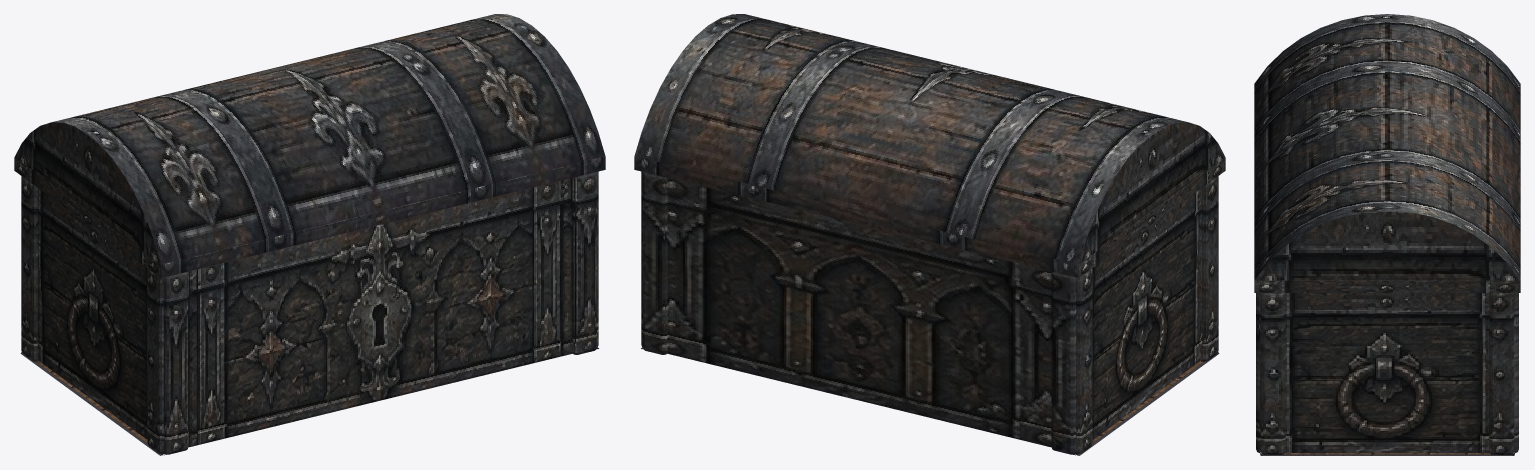
File: chest_domed_gothic.glb
The picture shows the model from 3 angles, left to right: view 1: azimuth 30°, elevation 25°; view 2: azimuth 150°, elevation 25°; view 3: azimuth 270°, elevation 25°; orthographic projection. The views are drawn at different scales.
Visible parts, largest first — view 1: body, lid; view 2: body, lid; view 3: lid, body.
Boxes of the visible parts, box(x1,y1,x2,y2) form: body: box(20, 171, 598, 455); lid: box(14, 14, 605, 278); body: box(641, 171, 1219, 455); lid: box(634, 14, 1225, 278); lid: box(1254, 14, 1520, 292); body: box(1256, 293, 1518, 455).
Size of the model in its own units: 1.03 by 0.6 by 0.588.
1 material, 1 textured.
